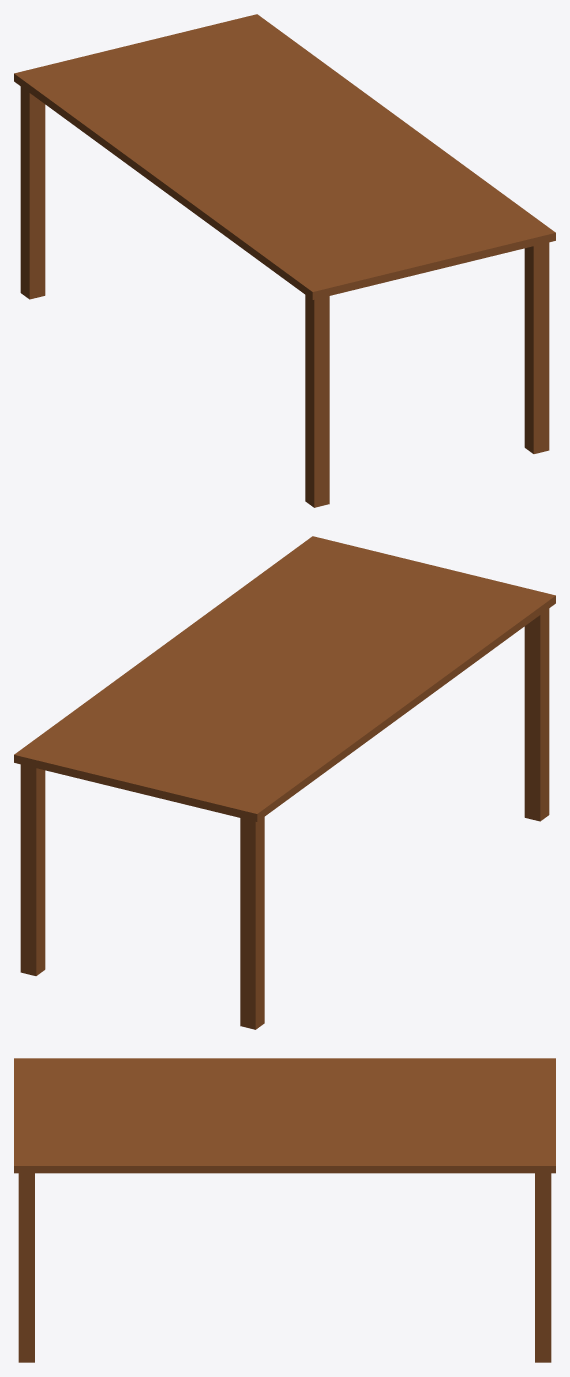
File: desk.fbx
3 views of the same model, one above another, from view 1: azimuth 30°, elevation 25°; view 2: azimuth 150°, elevation 25°; view 3: azimuth 270°, elevation 25° (orthographic). The views are drawn at different scales.
Parts seen in each view (by area): view 1: desk; view 2: desk; view 3: desk.
Boxes of the visible parts, x1,y1,x2,y2 form: desk: (14,14,555,507); desk: (14,536,555,1029); desk: (14,1058,555,1362).
Size of the model in its own units: 146 by 126 by 311.
